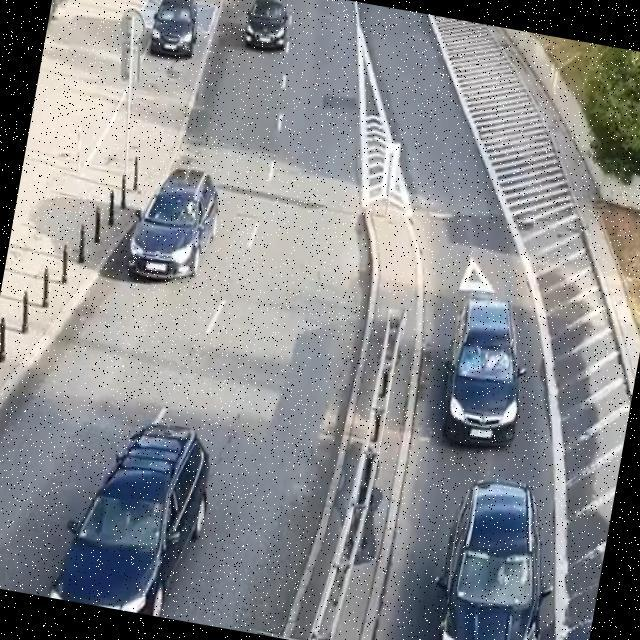car: (51, 425, 208, 613), (442, 482, 545, 640), (445, 299, 521, 446), (129, 171, 218, 279), (151, 0, 196, 56), (246, 0, 289, 49)
